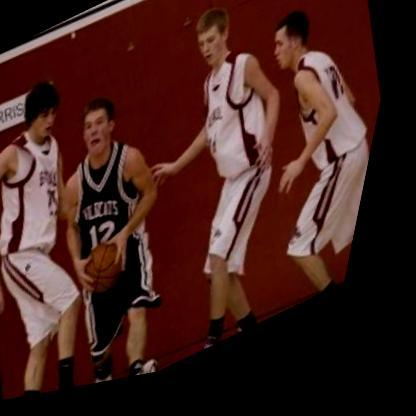basketball: (76, 233, 149, 312)
